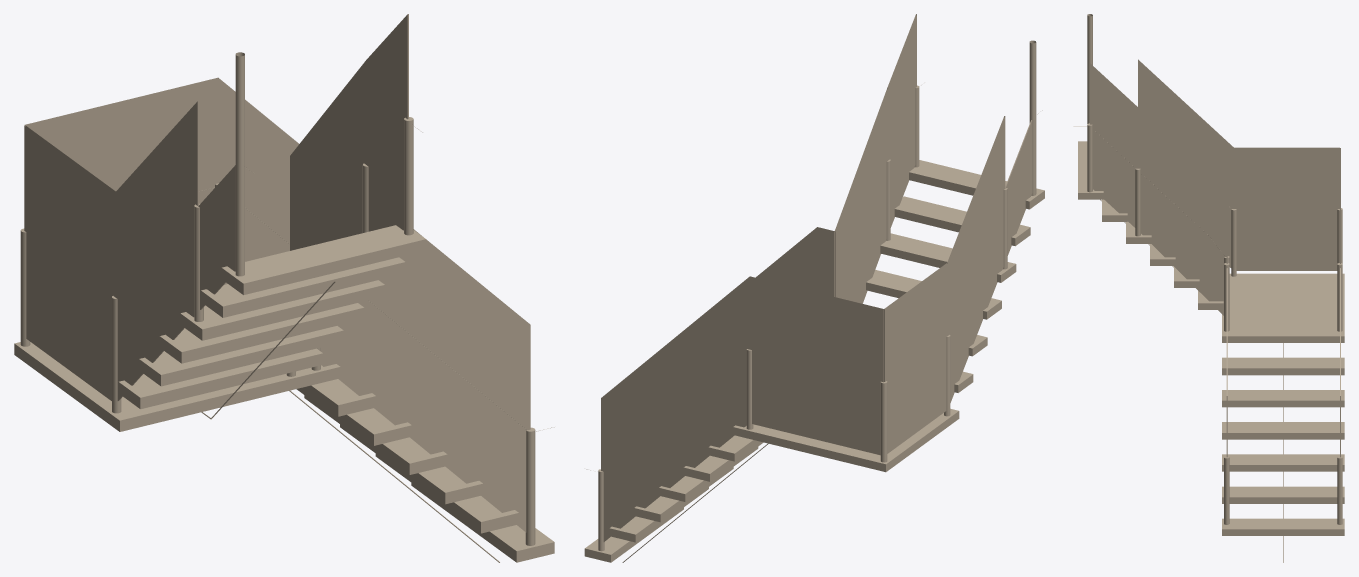
Rendered from 3dcodebench_LShapedStaircase_seed0.glb.
3 views of the same model, side by side, from view 1: azimuth 30°, elevation 25°; view 2: azimuth 150°, elevation 25°; view 3: azimuth 270°, elevation 25° (orthographic). The views are drawn at different scales.
Parts seen in each view (by area): view 1: object; view 2: object; view 3: object.
Boxes of the visible parts, <box> form: object: <box>14,14,554,562</box>; object: <box>584,14,1044,562</box>; object: <box>1073,14,1344,562</box>.
Bounding box in the file's own units: 2.98 × 4.75 × 2.74.
